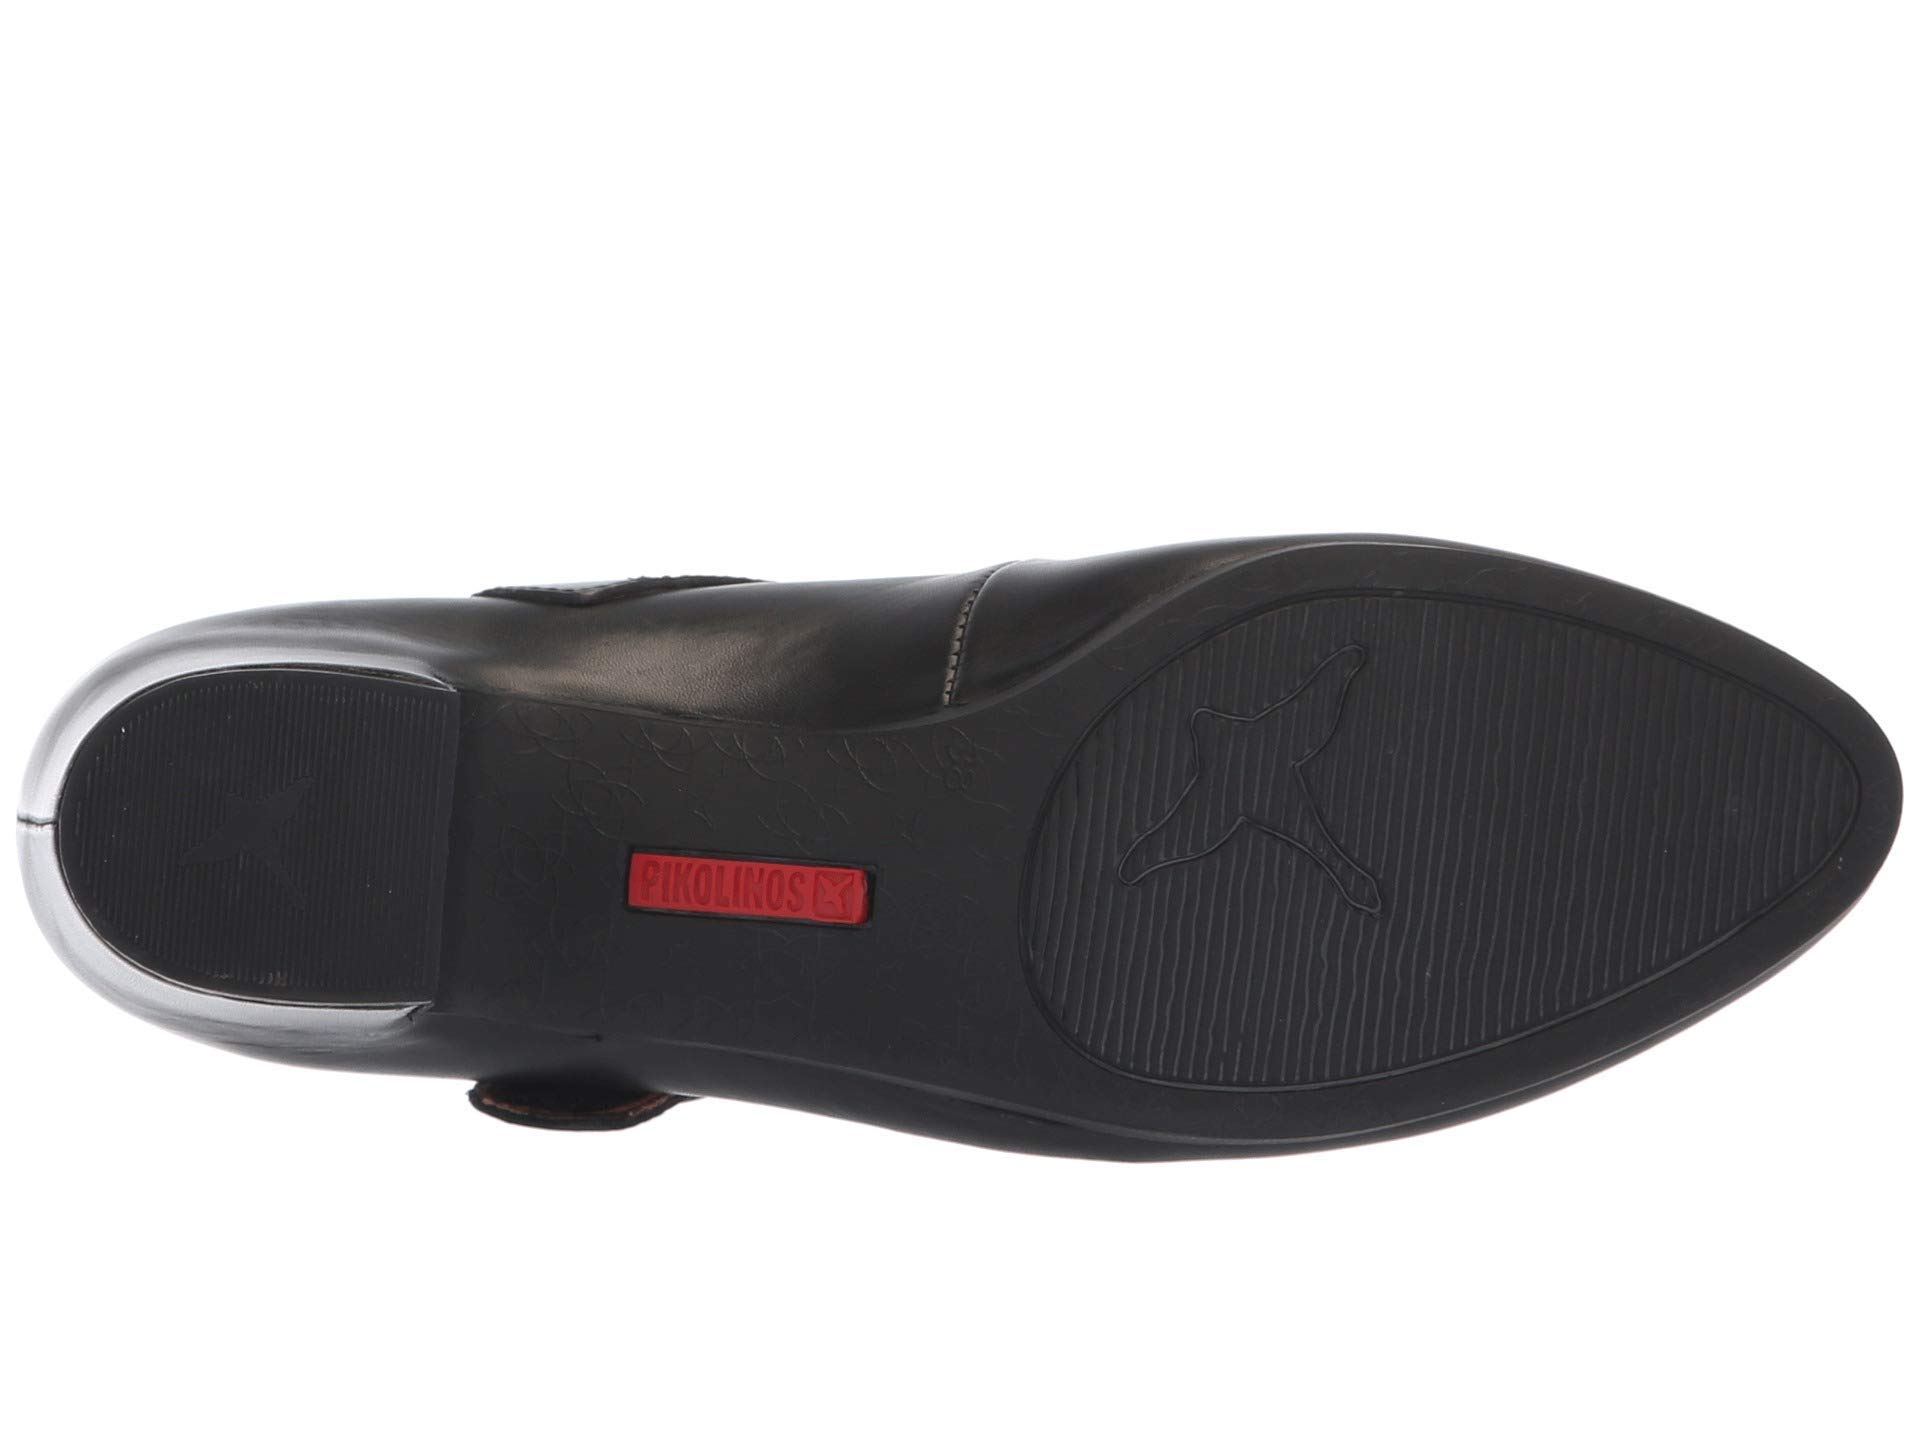line: (1432, 685, 1707, 938), (150, 753, 376, 957)
quad: (620, 839, 900, 959)
star: (620, 839, 900, 959)
text: (620, 839, 900, 959)
